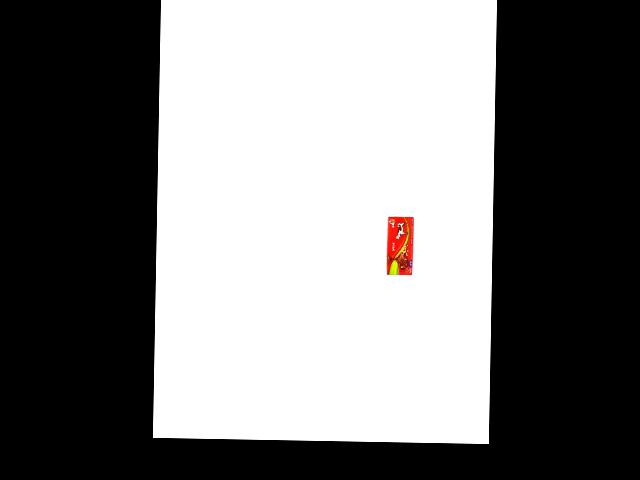chocolate: (384, 212, 419, 276)
